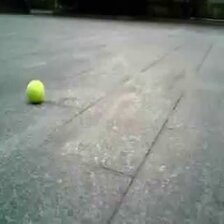tennis: (26, 81, 44, 101)
